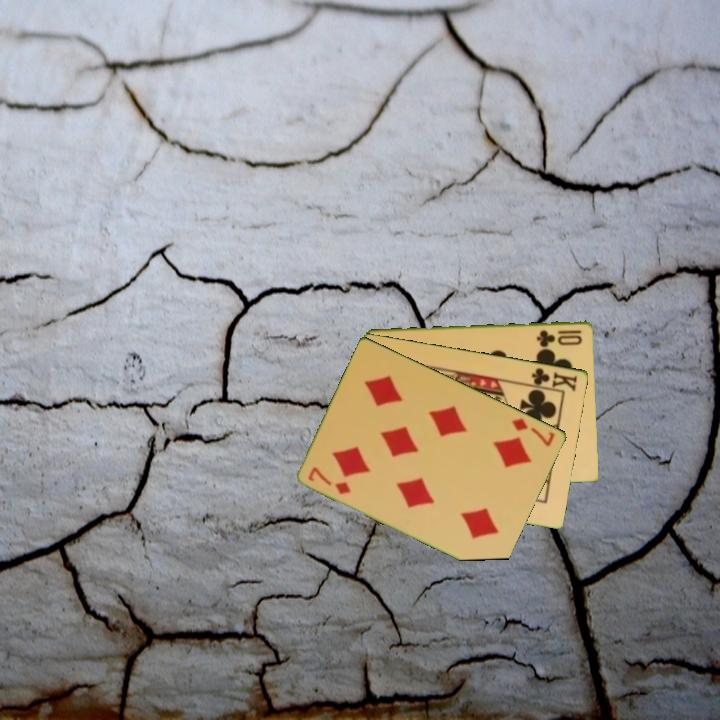10c: (534, 326, 585, 348)
7d: (508, 414, 558, 449), (305, 463, 354, 497)
Kc: (524, 364, 581, 394)
